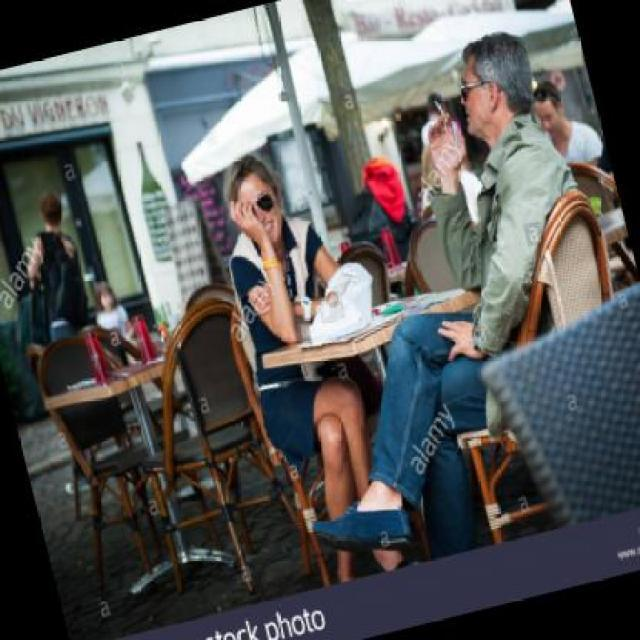cigarette: (433, 96, 450, 124)
